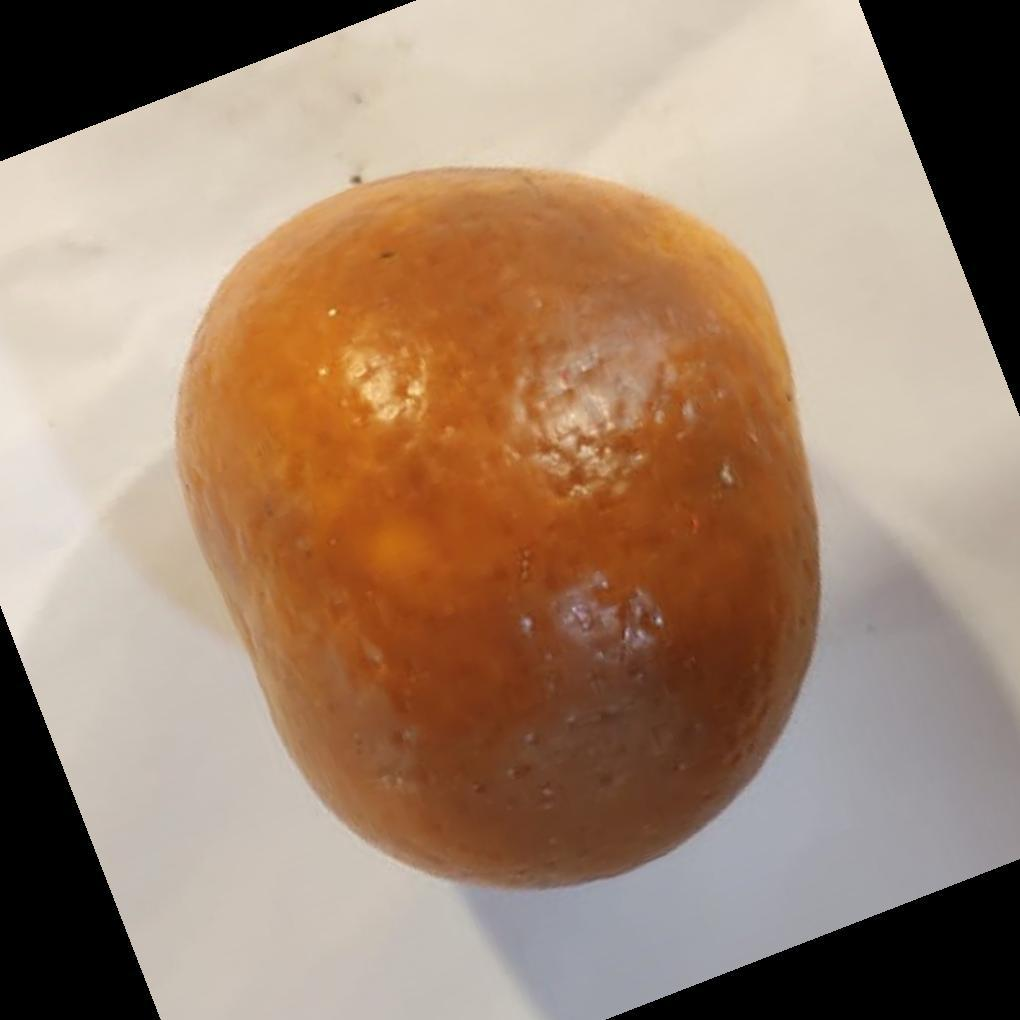FreshOrange: (172, 168, 824, 896)
